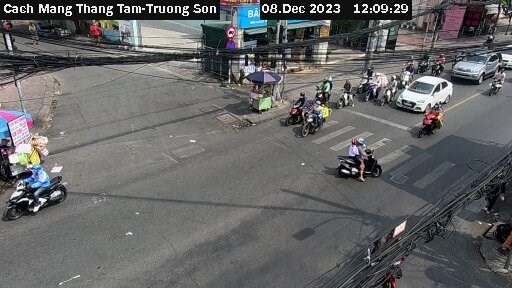car: (397, 73, 451, 113), (455, 47, 501, 83)
motorbike: (4, 165, 70, 217), (336, 137, 388, 190), (414, 104, 448, 141), (299, 103, 333, 136), (279, 95, 314, 126), (330, 81, 364, 110), (306, 76, 330, 100), (487, 70, 510, 95)
